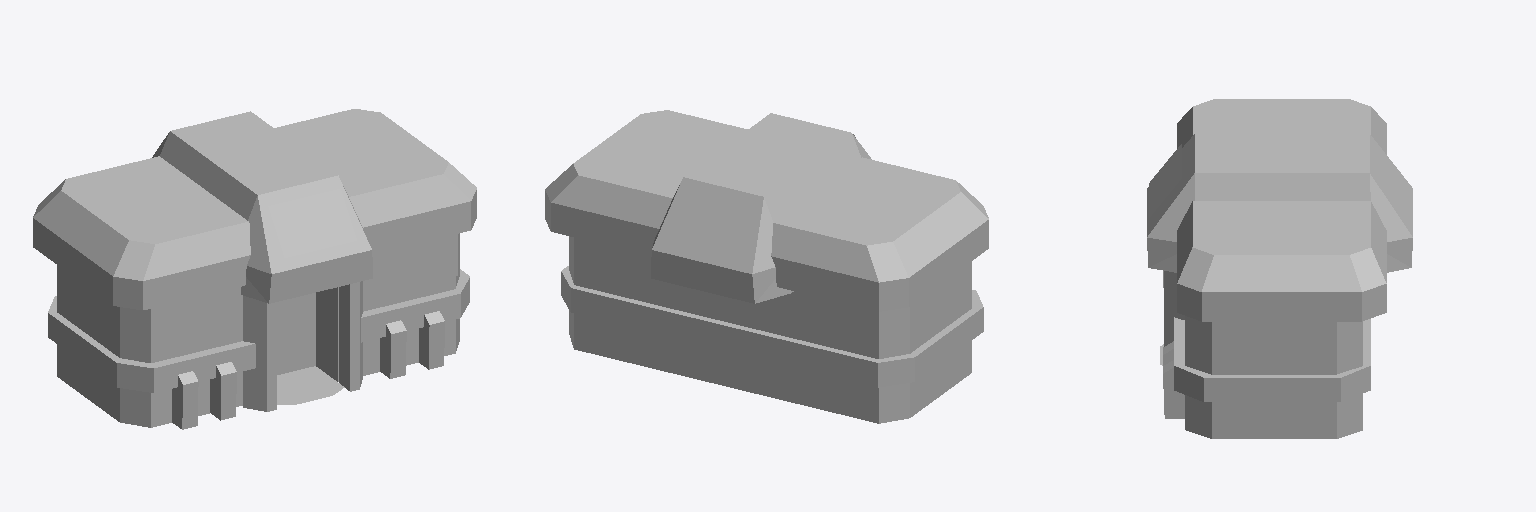
Rendered from Vermillion.obj.
3 views of the same model, side by side, from view 1: azimuth 30°, elevation 25°; view 2: azimuth 150°, elevation 25°; view 3: azimuth 270°, elevation 25° (orthographic).
Visible parts, largest first — view 1: polygon4; view 2: polygon4; view 3: polygon4.
Part boxes in pixels (x1,y1,x2,y2): polygon4: (33,109,476,429); polygon4: (545,110,988,423); polygon4: (1147,99,1412,438).
Size of the model in its own units: 2.68 by 1.44 by 1.7.